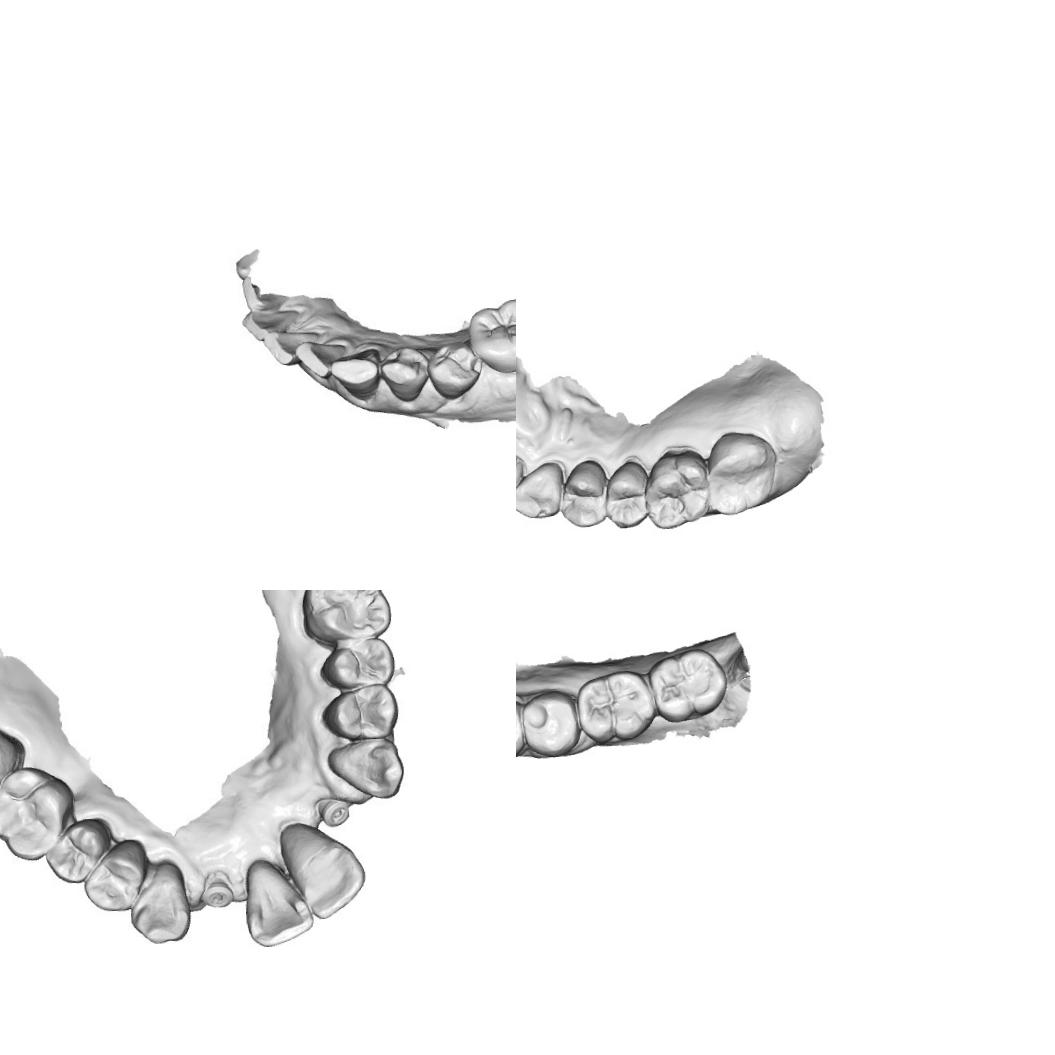canine: (324, 734, 406, 802), (126, 862, 190, 947), (324, 347, 384, 403), (516, 460, 566, 520)
implant_minus: (312, 793, 347, 828), (202, 871, 233, 909)
incisor: (241, 856, 316, 949), (284, 836, 367, 919), (266, 324, 317, 367), (299, 340, 340, 378)
molar: (0, 764, 76, 861), (704, 429, 780, 516), (646, 646, 730, 724), (574, 667, 654, 747), (642, 448, 710, 530), (298, 590, 391, 644), (469, 295, 516, 368), (0, 720, 20, 811)
premolar: (318, 680, 402, 743), (40, 816, 112, 887), (316, 634, 398, 692), (81, 844, 148, 912), (520, 688, 580, 756), (556, 458, 609, 529), (603, 458, 652, 530), (381, 346, 426, 394), (432, 349, 478, 391)
